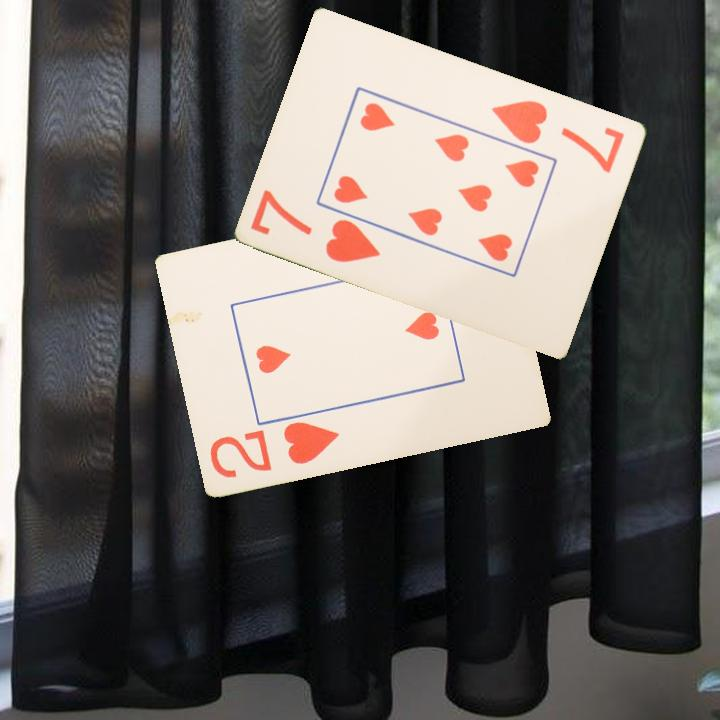2h: (206, 417, 343, 481)
7h: (488, 96, 628, 176), (247, 187, 384, 266)
